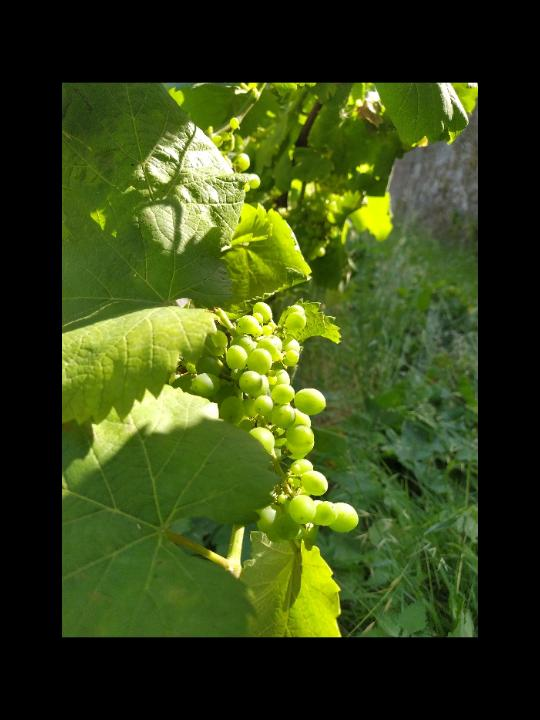grape: (168, 299, 363, 543)
